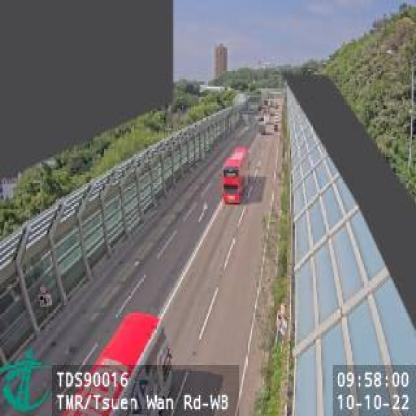Bus: (59, 308, 177, 416), (223, 146, 249, 204)
